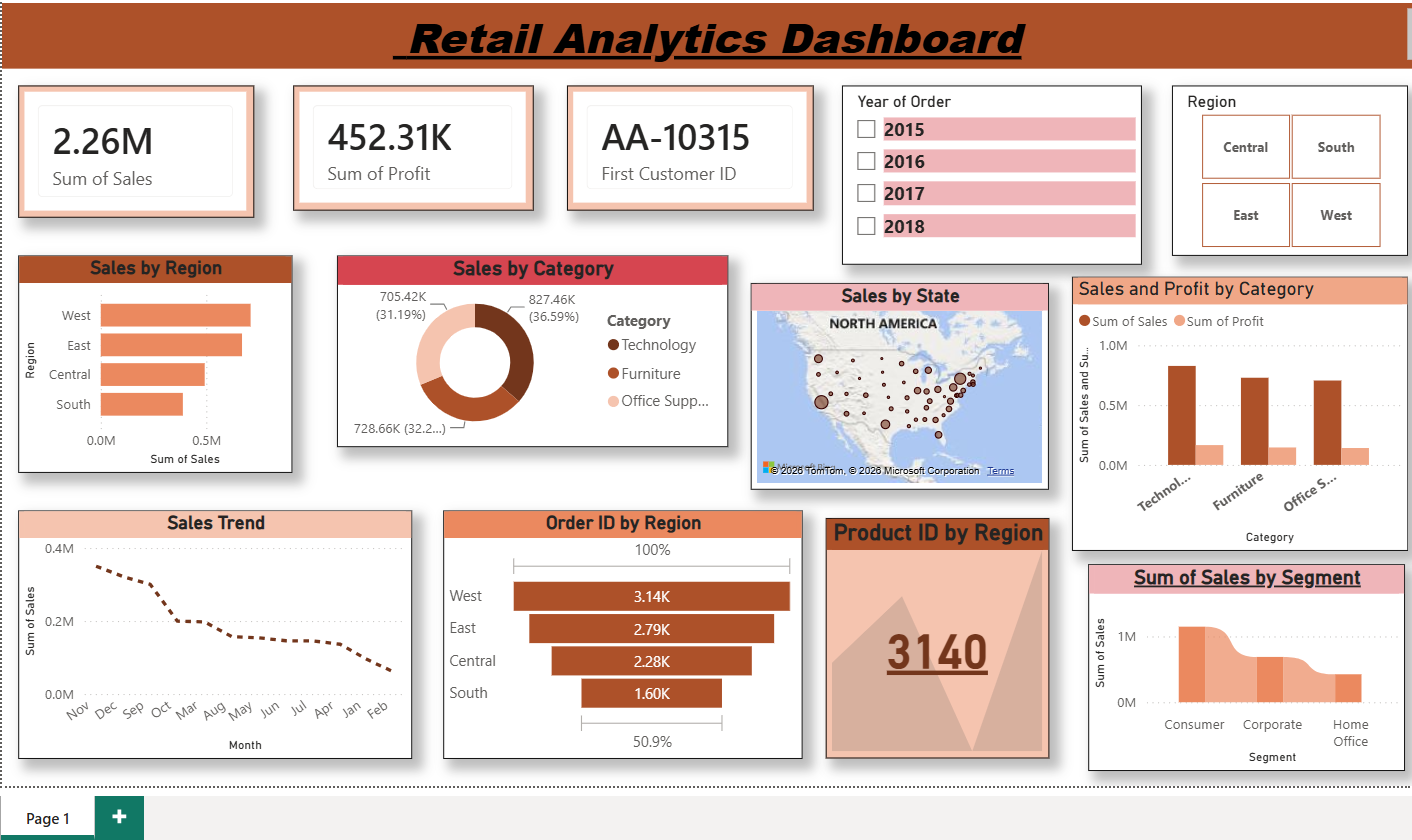

Layout of this report page (visuals, bound fields, positions):
{"tool":"powerbi","page":{"name":"Page 1","canvas":[1280,720],"ordinal":0},"visuals":[{"type":"textbox","box":[0,13.7,1280.3,59],"z":0},{"type":"cardVisual","fields":{"Data":["Sum(Project 5.Sales)"]},"box":[15.1,87.8,212.7,119.4],"z":1000},{"type":"cardVisual","fields":{"Data":["Sum(Project 5.Profit)"]},"box":[262.1,87.8,216.8,112.5],"z":2000},{"type":"cardVisual","fields":{"Data":["Min(Project 5.Customer ID)"]},"box":[509.1,87.8,222.3,112.5],"z":3000},{"type":"barChart","title":" Sales by Region","fields":{"Category":["Project 5.Region"],"Y":["Sum(Project 5.Sales)"]},"box":[15.1,241.5,247,196.2],"z":4000},{"type":"lineChart","title":"Sales Trend","fields":{"Category":["Project 5.Month"],"Y":["Sum(Project 5.Sales)"]},"box":[15.1,470.7,355.4,223.7],"z":5000},{"type":"donutChart","title":" Sales by Category","fields":{"Y":["Sum(Project 5.Sales)"],"Category":["Project 5.Category"]},"box":[301.9,241.5,352.7,172.9],"z":6000},{"type":"slicer","fields":{"Values":["Project 5.Year of Order"]},"box":[757.5,87.8,270.3,161.9],"z":7000},{"type":"slicer","fields":{"Values":["Project 5.Region"]},"box":[1055.2,87.8,212.7,153.7],"z":8000},{"type":"clusteredColumnChart","title":" Sales and Profit by Category","fields":{"Category":["Project 5.Category"],"Y":["Sum(Project 5.Sales)","Sum(Project 5.Profit)"]},"box":[964.8,260.4,303.2,246.8],"z":9000},{"type":"funnel","title":" Order ID by Region","fields":{"Category":["Project 5.Region"],"Y":["CountNonNull(Project 5.Order ID)"]},"box":[397.9,470.7,323.8,223.7],"z":10000},{"type":"map","title":" Sales by State","fields":{"Category":["Project 5.State"],"Size":["Sum(Project 5.Sales)"]},"box":[675.1,266.2,269,186.6],"z":11000},{"type":"kpi","title":"Product ID by Region","fields":{"Indicator":["CountNonNull(Project 5.Product ID)"],"TrendLine":["Project 5.Region"]},"box":[742.4,477.5,201.7,216.8],"z":12000},{"type":"ribbonChart","fields":{"Category":["Project 5.Segment"],"Y":["Sum(Project 5.Sales)"]},"box":[979.8,520.1,285.4,186.6],"z":13000}]}

Visuals, with their boxes in screenshot pixels (x1, y1, x2, y2):
textbox: 0 0 1411 64
cardVisual - Sum(Project 5.Sales): 10 81 250 215
cardVisual - Sum(Project 5.Profit): 288 81 533 208
cardVisual - Min(Project 5.Customer ID): 567 81 818 208
" Sales by Region" barChart: 10 254 288 475
"Sales Trend" lineChart: 10 512 411 765
" Sales by Category" donutChart: 333 254 731 449
slicer - Project 5.Year of Order: 847 81 1152 263
slicer - Project 5.Region: 1183 81 1411 254
" Sales and Profit by Category" clusteredColumnChart: 1081 275 1411 554
" Order ID by Region" funnel: 441 512 807 765
" Sales by State" map: 754 282 1057 492
"Product ID by Region" kpi: 830 520 1057 765
ribbonChart - Project 5.Segment x Sum(Project 5.Sales): 1098 568 1411 779
